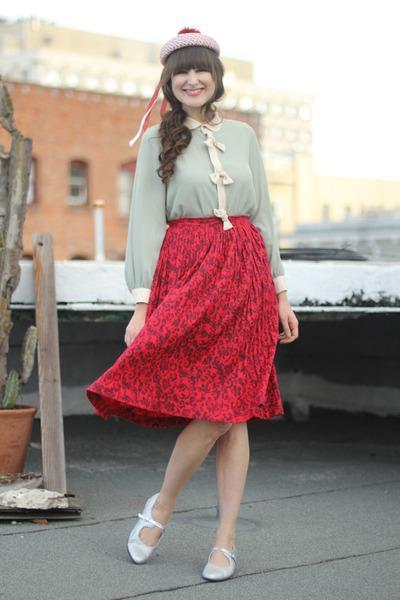long sleeve shirt: (118, 117, 285, 308)
skirt: (84, 214, 283, 424)
